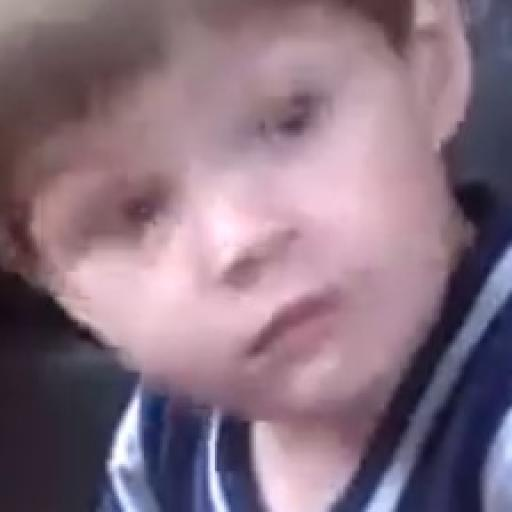Autism: (17, 12, 468, 433)
